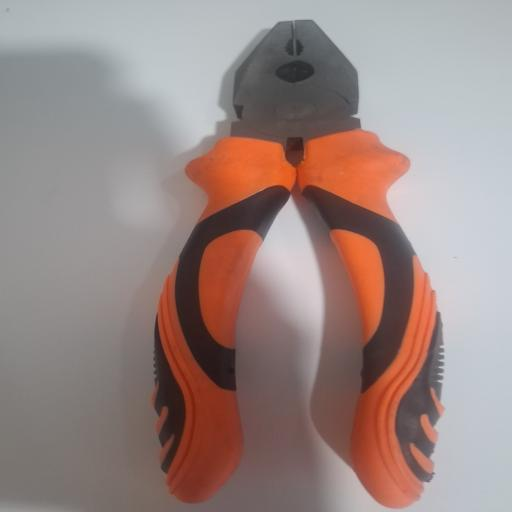alicate: (150, 19, 448, 512)
